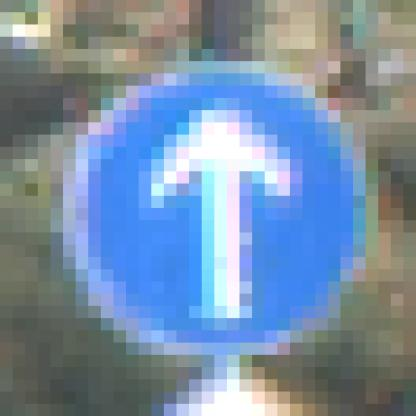AheadOnly: (64, 74, 341, 356)
